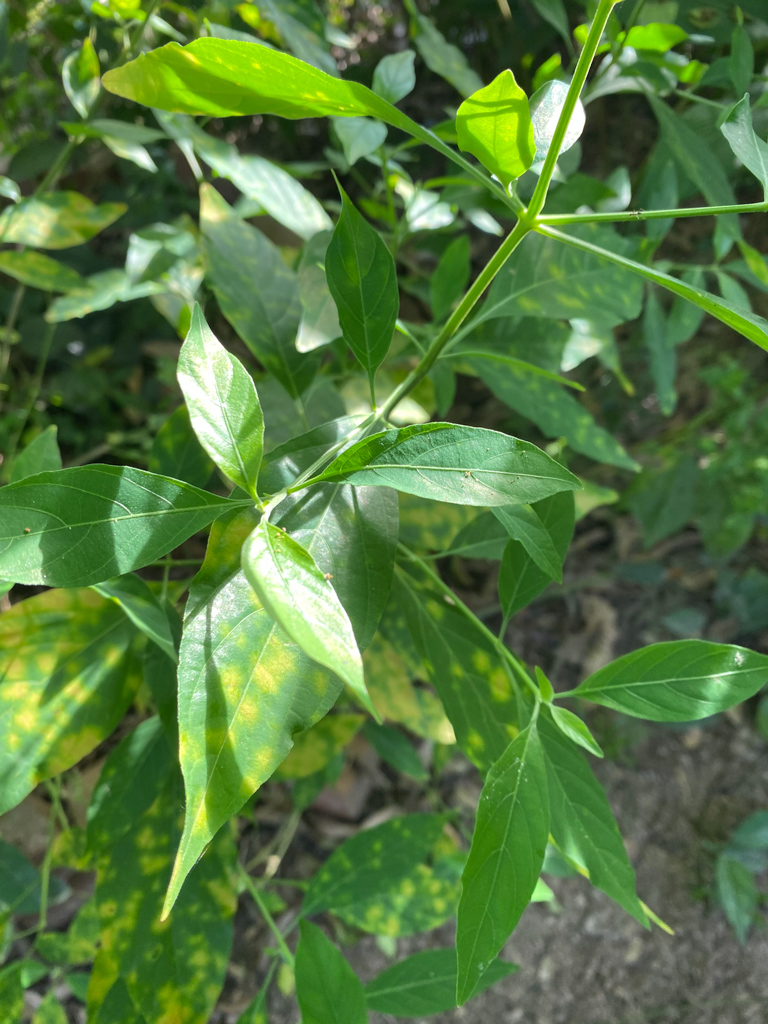Pepper yellow leaf: (181, 591, 324, 876), (84, 792, 232, 1019), (103, 38, 360, 142), (405, 575, 531, 786), (5, 600, 137, 782), (500, 362, 654, 470), (329, 834, 473, 934), (507, 249, 633, 334), (6, 252, 113, 325), (5, 191, 129, 242)
